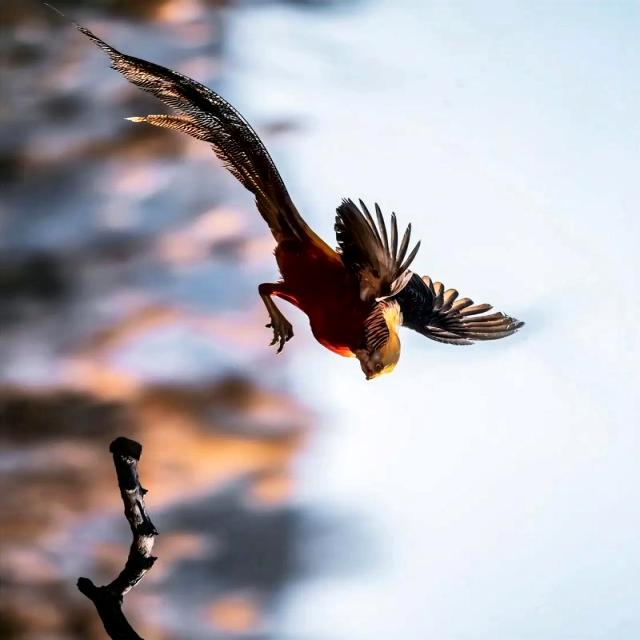Chrysolophus pictus feather: (45, 2, 315, 240)
